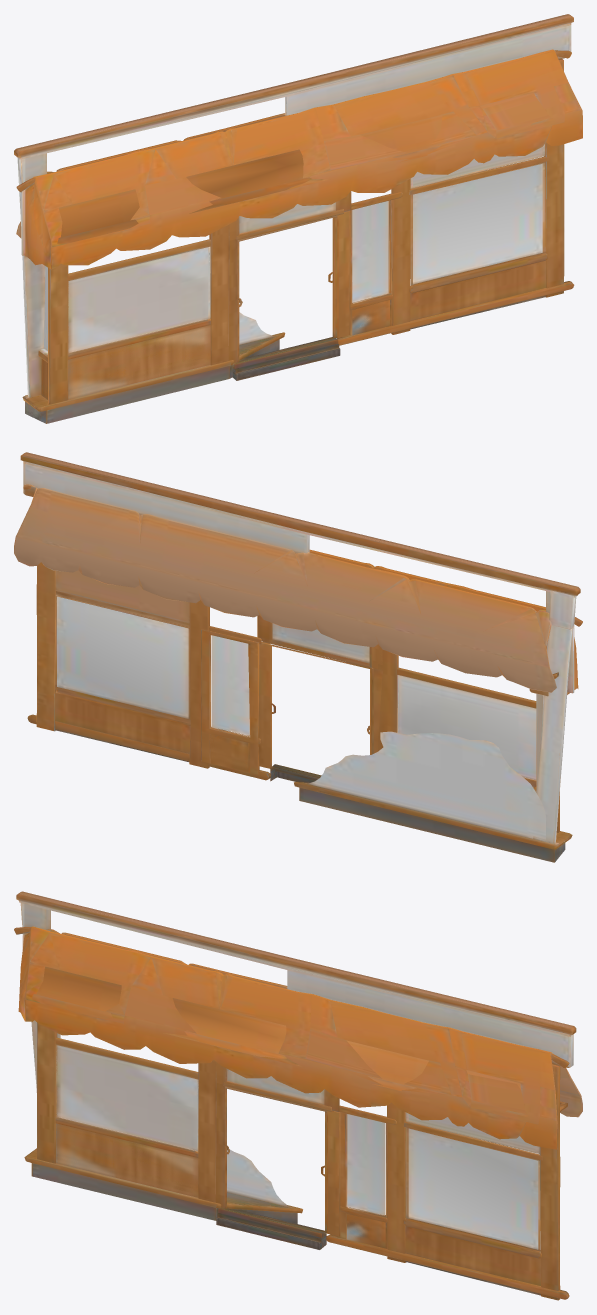
File: street-shop-market.glb
3 views of the same model, one above another, from view 1: azimuth 30°, elevation 25°; view 2: azimuth 150°, elevation 25°; view 3: azimuth 330°, elevation 25° (orthographic).
Parts seen in each view (by area): view 1: tripo_node_52696762-b9dd-4189-85d1-d1f0fe8089cb; view 2: tripo_node_52696762-b9dd-4189-85d1-d1f0fe8089cb; view 3: tripo_node_52696762-b9dd-4189-85d1-d1f0fe8089cb.
Boxes of the visible parts, box(x1,y1,x2,y2) form: tripo_node_52696762-b9dd-4189-85d1-d1f0fe8089cb: box(14, 14, 582, 423); tripo_node_52696762-b9dd-4189-85d1-d1f0fe8089cb: box(14, 452, 582, 862); tripo_node_52696762-b9dd-4189-85d1-d1f0fe8089cb: box(14, 891, 582, 1300).
Bounding box in the file's own units: 6.4 × 3 × 0.5.
Materials: 1 (1 with a texture image).
